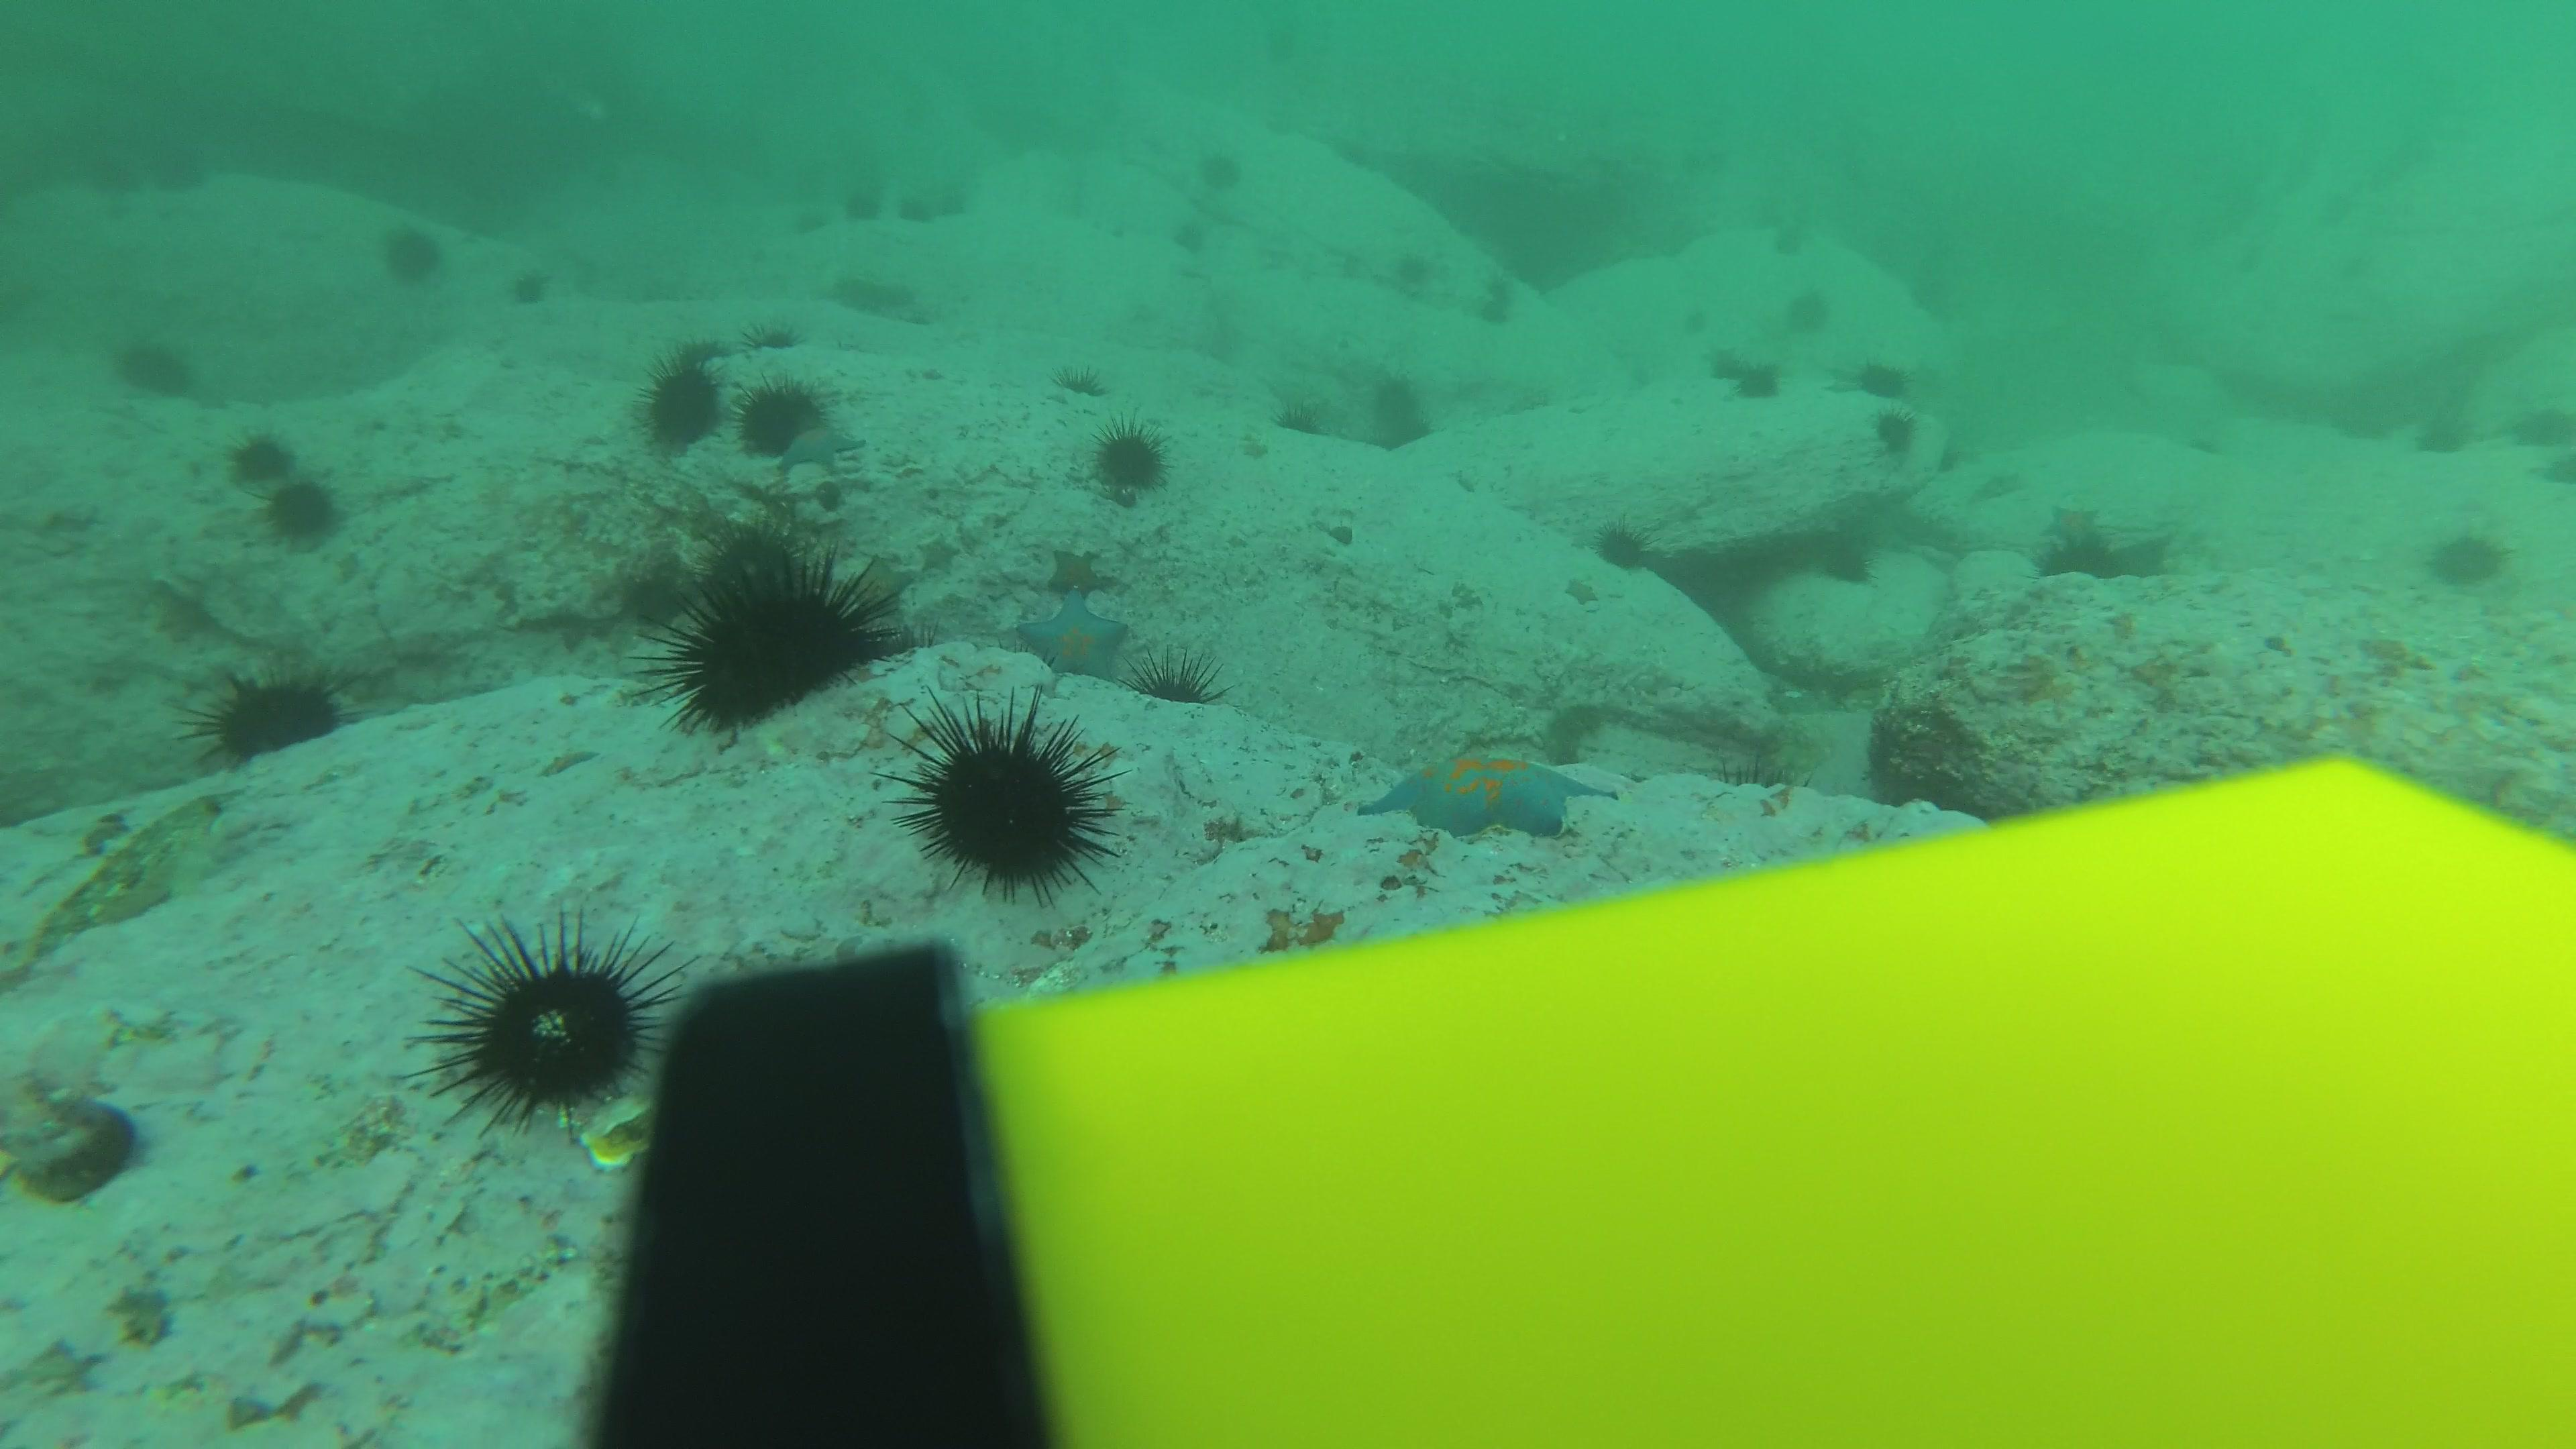urchin: (901, 695, 1134, 899), (441, 918, 656, 1131), (667, 547, 886, 743), (165, 671, 345, 773), (736, 373, 824, 453), (640, 352, 713, 442), (370, 203, 444, 285), (1146, 640, 1217, 708), (262, 488, 336, 545), (1713, 338, 1773, 405), (1108, 419, 1161, 494), (235, 432, 304, 479), (1867, 352, 1925, 403)
